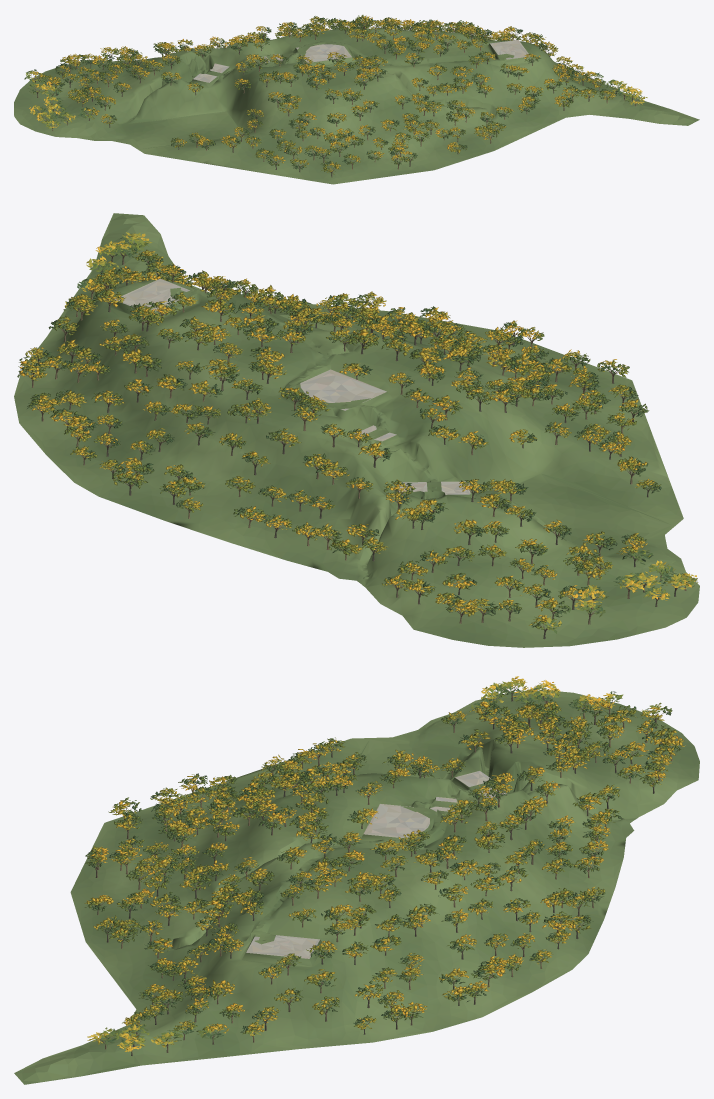
Rendered from HK_Terrain_Hikone.lod.glb.
The picture shows the model from 3 angles, top to bottom: view 1: azimuth 30°, elevation 25°; view 2: azimuth 150°, elevation 25°; view 3: azimuth 270°, elevation 25°; orthographic projection. The views are drawn at different scales.
Parts seen in each view (by area): view 1: HK_Terrain_Hikone; view 2: HK_Terrain_Hikone; view 3: HK_Terrain_Hikone.
Part boxes in pixels (x1,y1,x2,y2): HK_Terrain_Hikone: (14,15,699,184); HK_Terrain_Hikone: (14,213,699,647); HK_Terrain_Hikone: (14,676,699,1084).
Size of the model in its own units: 629 by 65.77 by 462.
